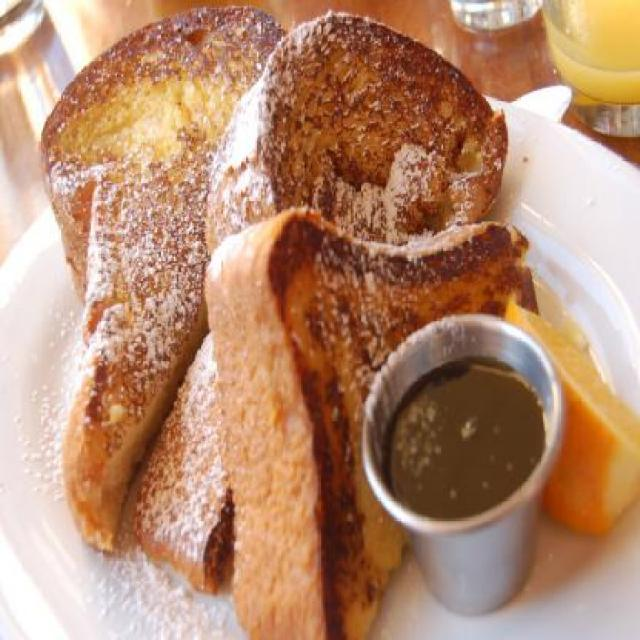Bread: (39, 7, 538, 640), (225, 15, 507, 246)
